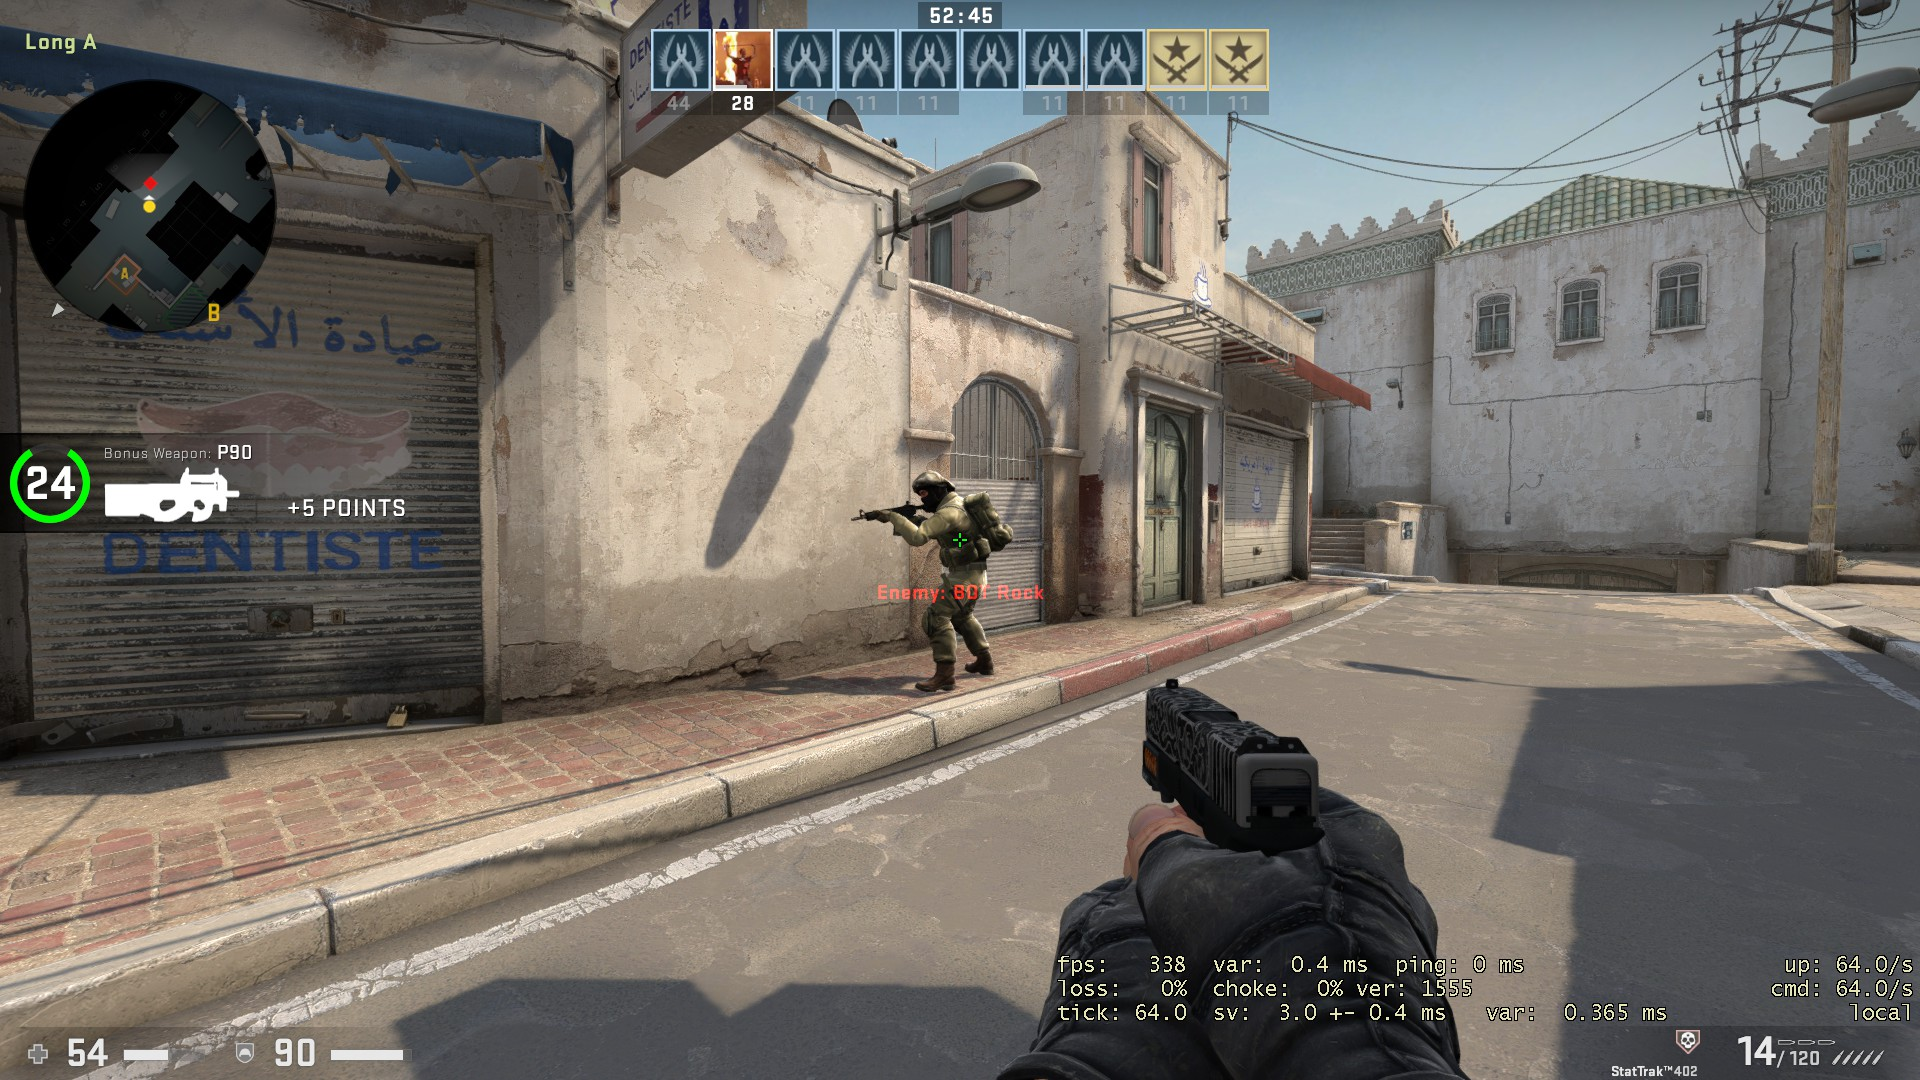ct: (846, 464, 1017, 698)
player: (845, 460, 1019, 698)
